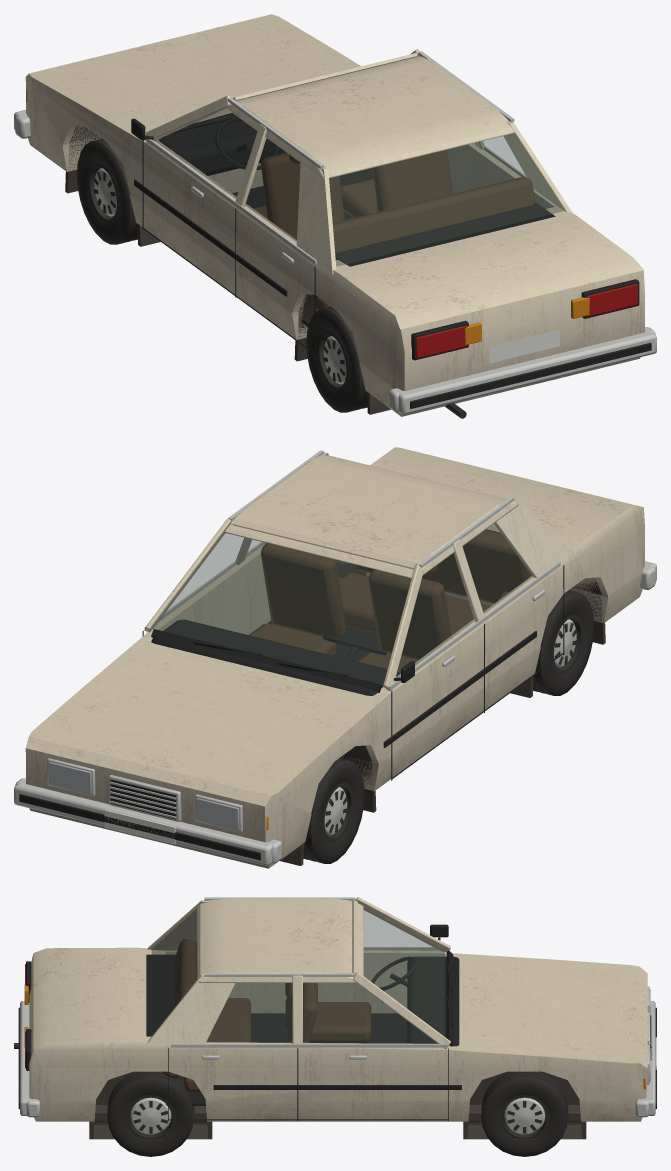
File: sedan.glb
3 views of the same model, one above another, from view 1: azimuth 30°, elevation 25°; view 2: azimuth 150°, elevation 25°; view 3: azimuth 270°, elevation 25° (orthographic). The views are drawn at different scales.
Parts seen in each view (by area): view 1: body, glass, wheel_fl, wheel_rl; view 2: body, glass, wheel_fl, wheel_rl; view 3: body, glass, wheel_fr, wheel_rr.
Part boxes in pixels (<box>): body: <box>14,14,656,418</box>; glass: <box>155,108,564,266</box>; wheel_fl: <box>76,139,137,244</box>; wheel_rl: <box>306,306,367,412</box>; body: <box>14,447,656,868</box>; glass: <box>153,523,533,684</box>; wheel_fl: <box>303,758,364,863</box>; wheel_rl: <box>533,590,594,695</box>; body: <box>14,897,656,1139</box>; glass: <box>152,908,444,1043</box>; wheel_fr: <box>481,1071,568,1156</box>; wheel_rr: <box>107,1071,194,1156</box>.
Bounding box in the file's own units: 1.88 × 1.45 × 4.82.
Materials: 12 (1 with a texture image).
